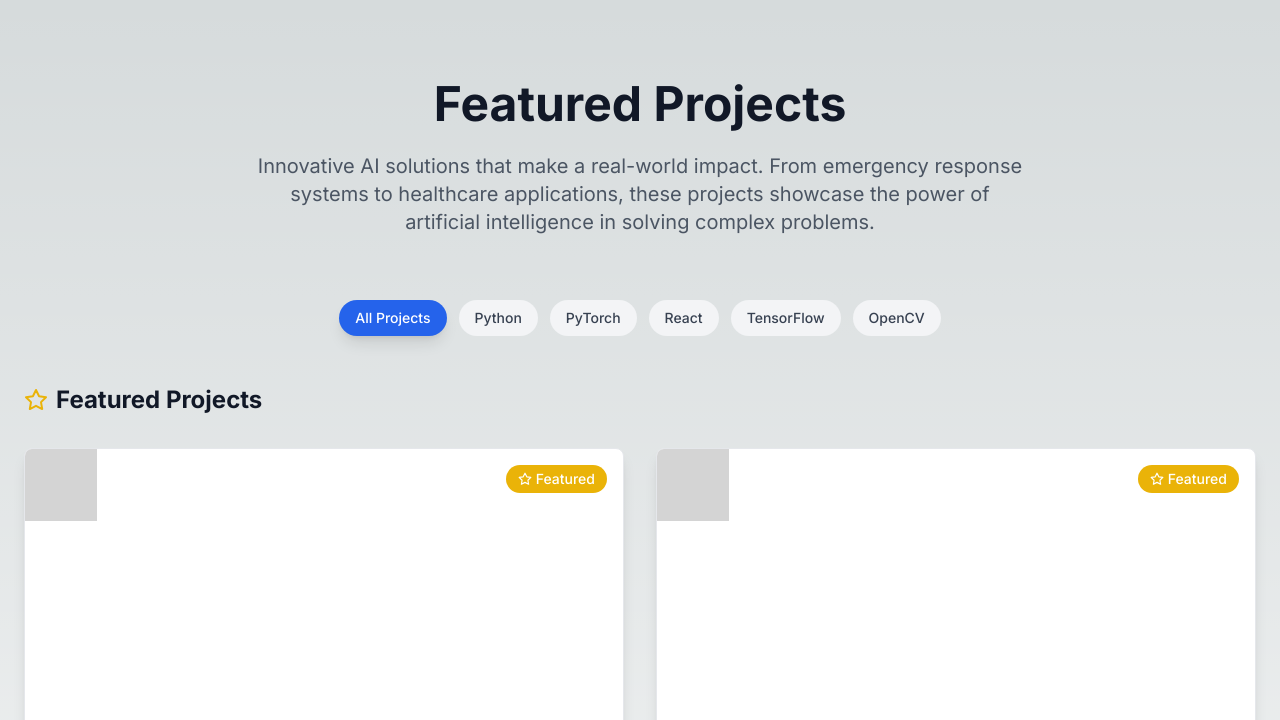
it: Projects Component › shows all projects when "All Projects" filter is selected
Note: Click on React filter first
Click the button "React" at (684, 318), box x1=649 y1=300 x2=719 y2=336
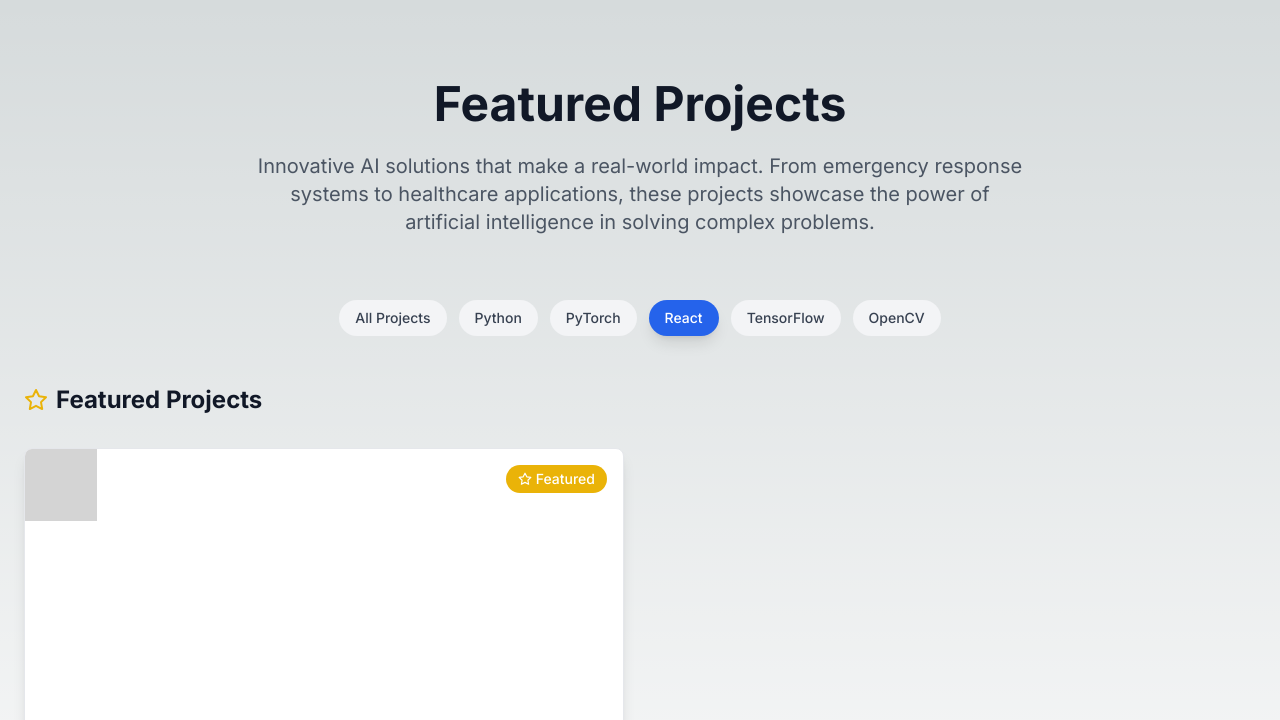
Note: Then click "All Projects"
Click the button "All Projects" at (393, 318), box x1=339 y1=300 x2=446 y2=336
(page scrolled)
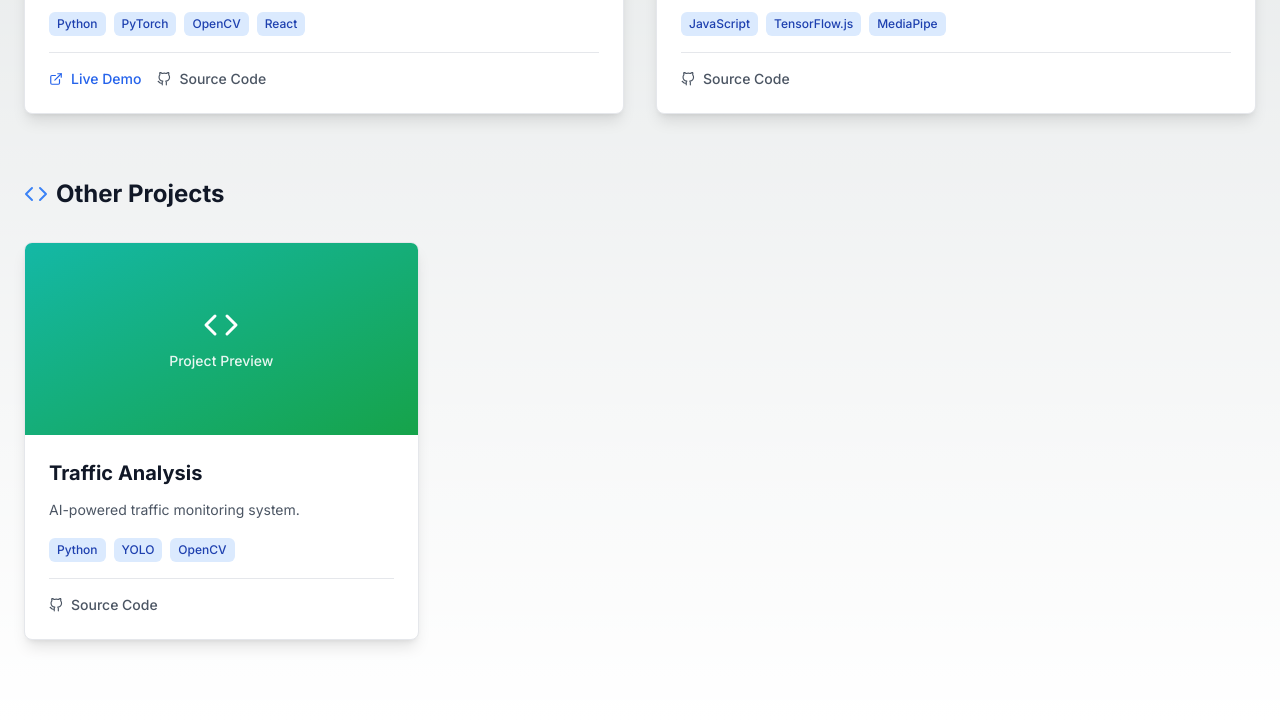
expect the heading "Traffic Analysis" is shown: met, box x1=49 y1=461 x2=202 y2=485
